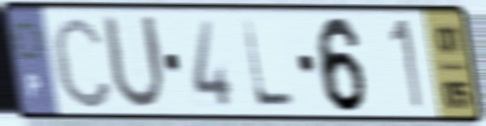1: (386, 16, 426, 113)
4: (189, 15, 236, 111)
6: (315, 13, 374, 116)
C: (48, 12, 116, 113)
L: (239, 16, 298, 111)
U: (99, 10, 169, 115)
